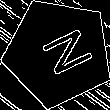N_SW: (26, 23, 90, 82)
